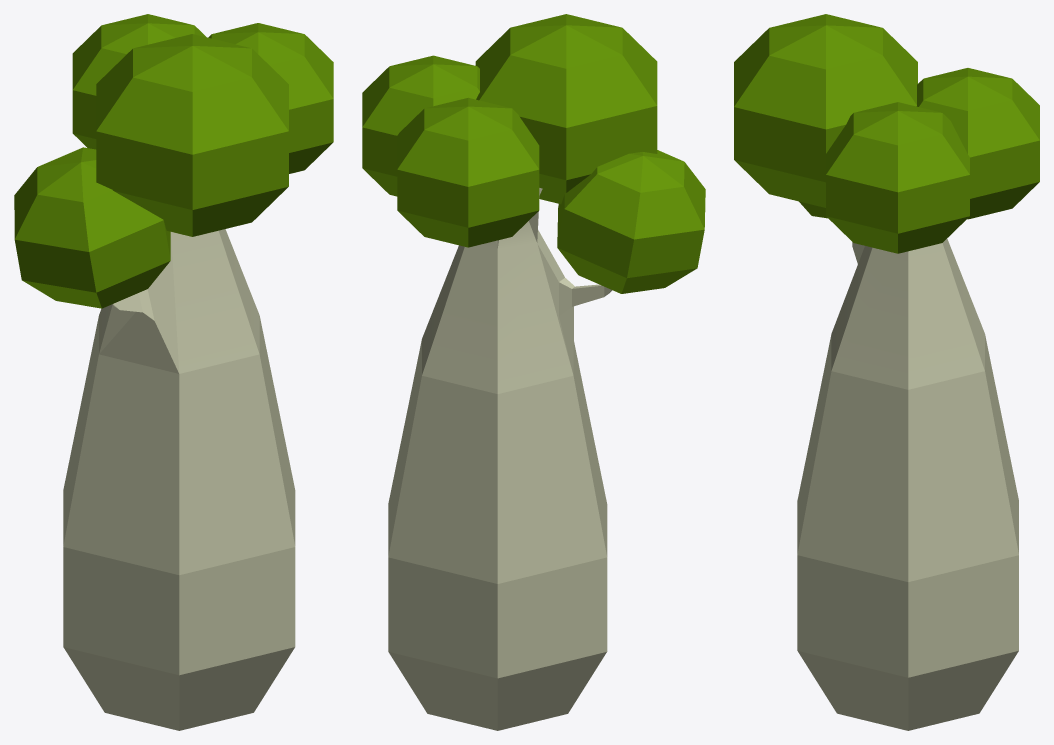
File: FIL_ZenGarden_BroccoliTree_01.fbx
The picture shows the model from 3 angles, left to right: view 1: azimuth 30°, elevation 25°; view 2: azimuth 150°, elevation 25°; view 3: azimuth 270°, elevation 25°; orthographic projection. The views are drawn at different scales.
Visible parts, largest first — view 1: pSphere11; view 2: pSphere11; view 3: pSphere11.
Boxes of the visible parts, bbox=[...] form: pSphere11: bbox=[14, 14, 333, 730]; pSphere11: bbox=[362, 14, 705, 730]; pSphere11: bbox=[734, 14, 1039, 730].
Size of the model in its own units: 9.22 by 17.77 by 7.5.
